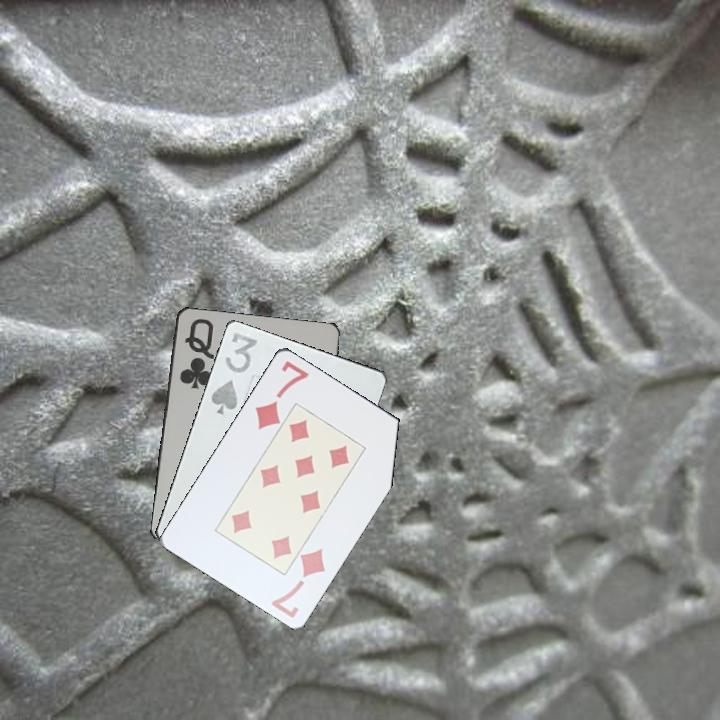3s: (207, 328, 260, 417)
7d: (251, 356, 312, 432), (268, 544, 328, 621)
Qc: (175, 314, 215, 392)
